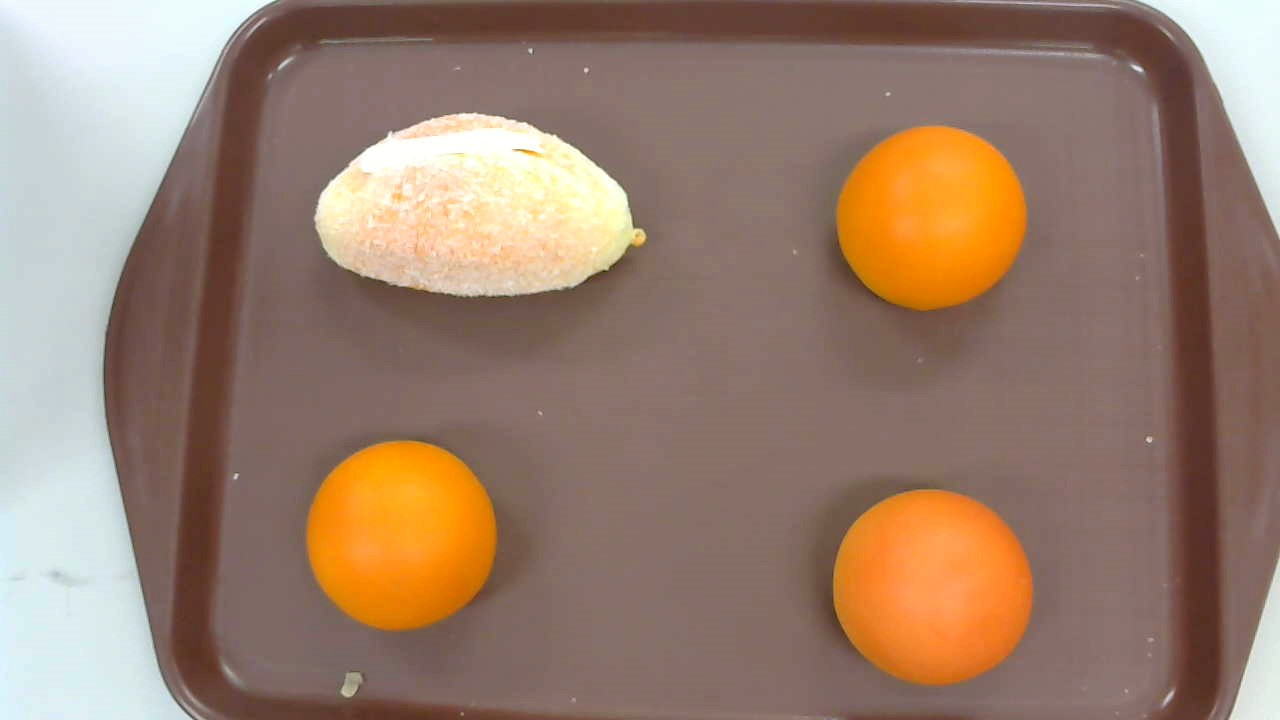bun: (832, 488, 1033, 684), (305, 440, 498, 631), (835, 125, 1027, 311)
coconut: (313, 110, 648, 300)
